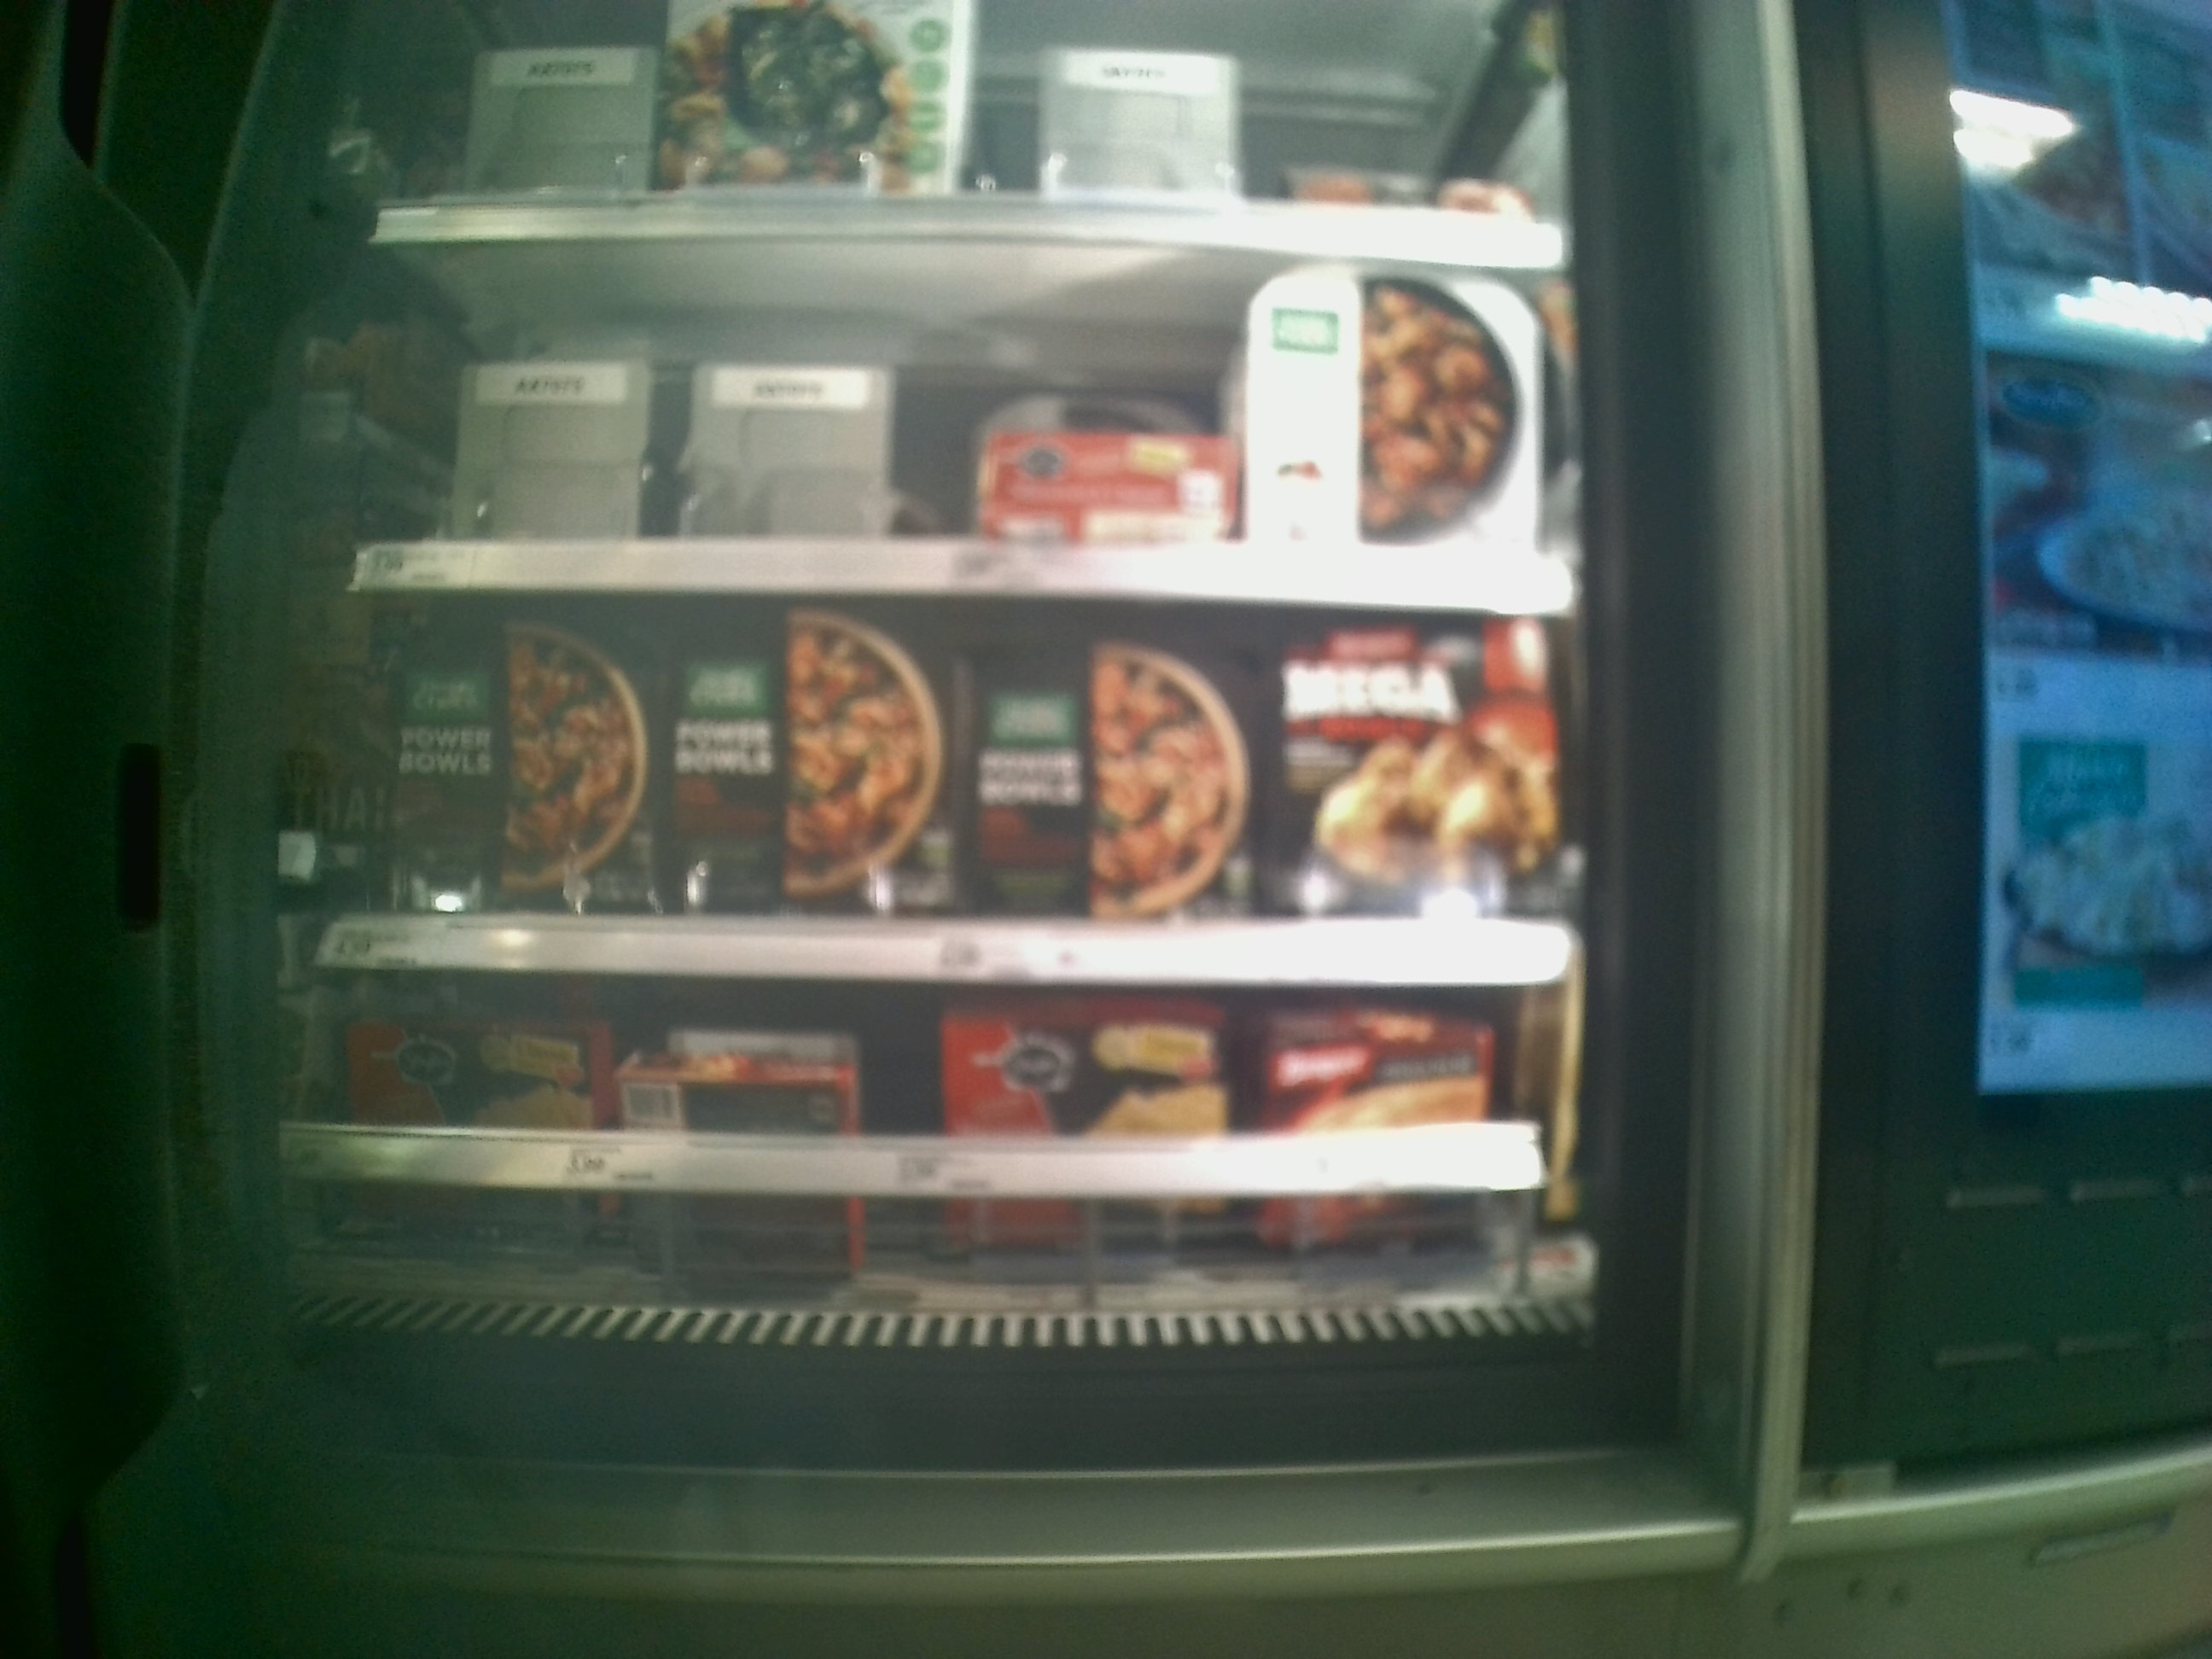shelf: (340, 591, 1583, 990), (303, 979, 1564, 1342), (359, 232, 1571, 608)
